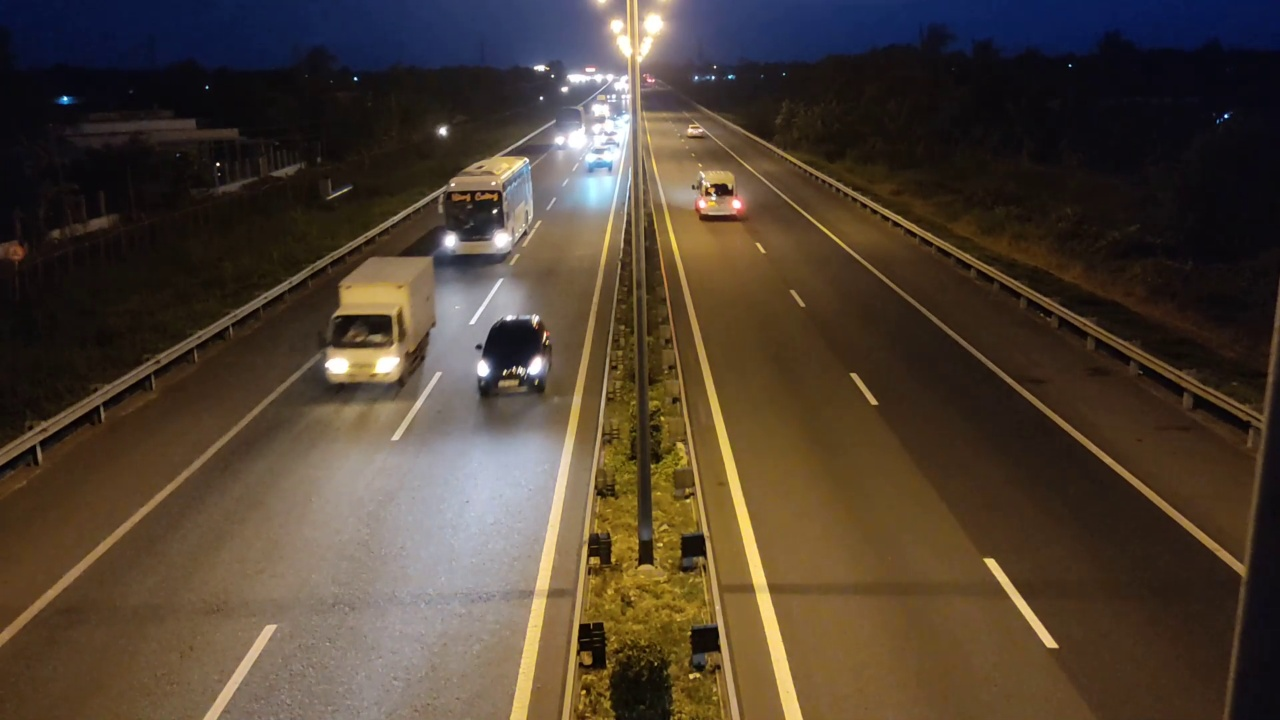bus: (441, 155, 535, 257)
car: (475, 313, 553, 397), (693, 168, 745, 221)
truck: (321, 255, 437, 389)
